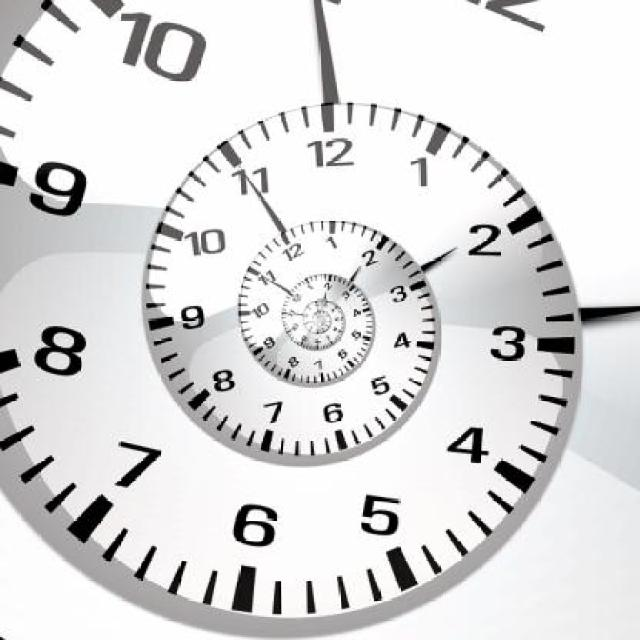clock: (34, 0, 569, 591)
